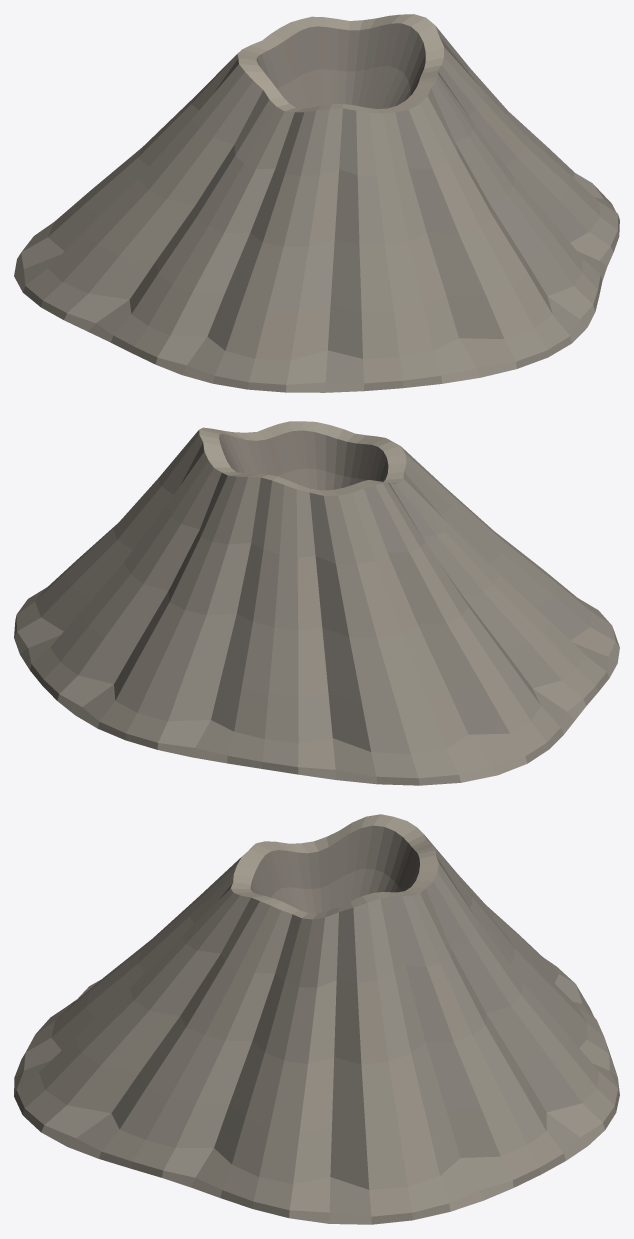
3 renders of one model, top to bottom at view 1: azimuth 30°, elevation 25°; view 2: azimuth 150°, elevation 25°; view 3: azimuth 270°, elevation 25°, orthographic. The views are drawn at different scales.
Parts seen in each view (by area): view 1: WholeGulliedMountainFlanksAndDeepSummitCrater; view 2: WholeGulliedMountainFlanksAndDeepSummitCrater; view 3: WholeGulliedMountainFlanksAndDeepSummitCrater.
Part boxes in pixels (x1,y1,x2,y2): WholeGulliedMountainFlanksAndDeepSummitCrater: (14,14,619,392); WholeGulliedMountainFlanksAndDeepSummitCrater: (14,421,619,785); WholeGulliedMountainFlanksAndDeepSummitCrater: (14,814,619,1224).
Size of the model in its own units: 6.95 by 2.67 by 6.28.
